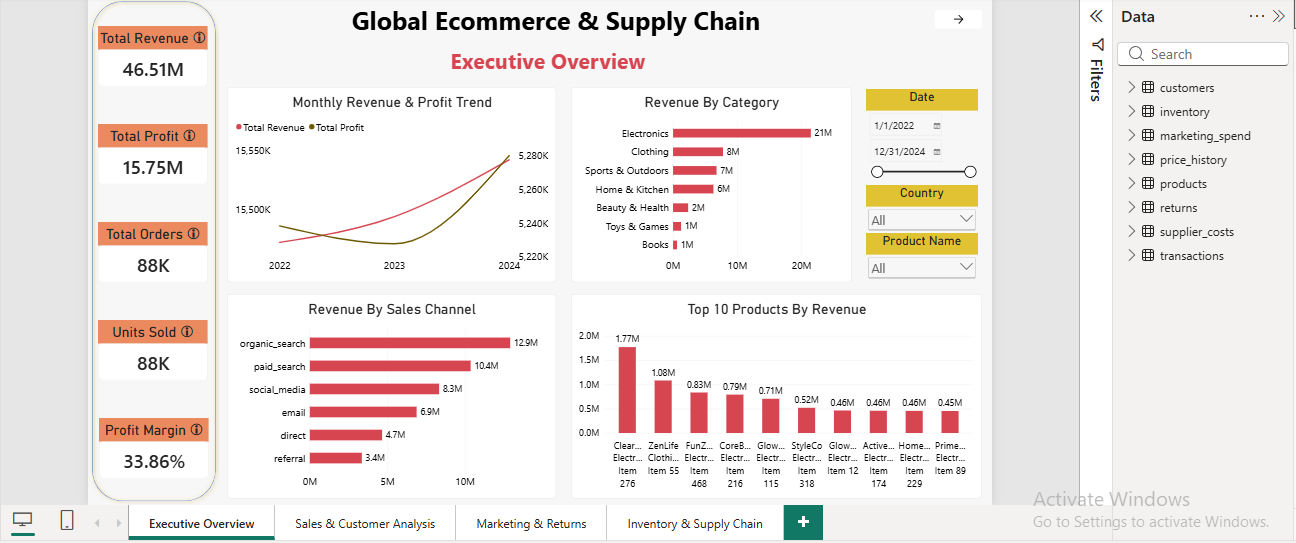

This screenshot's page, from the dashboard's own definition file:
{"tool":"powerbi","page":{"name":"Executive Overview","canvas":[1920,1080],"ordinal":0},"visuals":[{"type":"shape","box":[545.8,0,896.9,96.3],"z":0},{"type":"slicer","title":"Date","fields":{"Values":["transactions.date"]},"box":[1654.6,194.8,237.6,203.3],"z":0,"group":"g1"},{"type":"shape","box":[753.8,96.6,446.7,68.7],"z":1000},{"type":"slicer","title":"Country","fields":{"Values":["transactions.country"]},"box":[1654.6,398.1,237.6,104.9],"z":1000,"group":"g1"},{"type":"shape","box":[0,0,280.4,1080.9],"z":2000},{"type":"slicer","title":"Product Name","fields":{"Values":["products.name"]},"box":[1654.6,500.9,237.6,104.9],"z":2000,"group":"g1"},{"type":"cardVisual","title":"Total Revenue 🛈","fields":{"Data":["transactions.Total Revenue"]},"box":[21.4,62.1,233.3,128.4],"z":3000},{"type":"cardVisual","title":"Total Profit 🛈","fields":{"Data":["transactions.Total Profit"]},"box":[21.4,270.2,233.3,128.4],"z":4000},{"type":"cardVisual","title":"Total Orders 🛈","fields":{"Data":["transactions.Total Orders"]},"box":[21.4,478.4,233.3,128.4],"z":5000},{"type":"cardVisual","title":"Units Sold 🛈","fields":{"Data":["transactions.Total Orders"]},"box":[21.4,686.6,233.3,128.4],"z":6000},{"type":"cardVisual","title":"Profit Margin 🛈","fields":{"Data":["transactions.Profit Margin"]},"box":[23.5,894.7,233.3,128.4],"z":7000},{"type":"lineChart","title":"Monthly Revenue & Profit Trend","fields":{"Category":["transactions.date.Variation.Date Hierarchy.Year","transactions.date.Variation.Date Hierarchy.Month"],"Y":["transactions.Total Revenue"],"Y2":["transactions.Total Profit"]},"box":[295.4,190.5,699.9,415.3],"z":8000},{"type":"clusteredBarChart","title":"Revenue By Category","fields":{"Y":["transactions.Total Revenue"],"Category":["transactions.category"]},"box":[1027.4,190.5,597.2,415.3],"z":9000},{"type":"clusteredBarChart","title":"Revenue By Sales Channel","fields":{"Y":["transactions.Total Revenue"],"Category":["transactions.channel"]},"box":[295.4,631.4,699.9,434.5],"z":10000},{"type":"clusteredColumnChart","title":"Top 10 Products By Revenue","fields":{"Y":["transactions.Total Revenue"],"Category":["products.name"]},"box":[1027.4,631.4,873.3,434.5],"z":11000},{"type":"actionButton","box":[1800.1,27.8,100,40],"z":12000},{"type":"group","id":"g1","title":"Group 1","box":[1654.6,194.8,237.6,411],"z":13000}]}

Visuals, with their boxes on the page's 1920x1080 design canvas (x1, y1, x2, y2). These are canvas units, not pixel positions in the 1296x543 screenshot, which may show the page scaled, cropped or inside an application window:
shape: {"left": 546, "top": 0, "right": 1443, "bottom": 96}
"Date" slicer: {"left": 1655, "top": 195, "right": 1892, "bottom": 398}
shape: {"left": 754, "top": 97, "right": 1200, "bottom": 165}
"Country" slicer: {"left": 1655, "top": 398, "right": 1892, "bottom": 503}
shape: {"left": 0, "top": 0, "right": 280, "bottom": 1081}
"Product Name" slicer: {"left": 1655, "top": 501, "right": 1892, "bottom": 606}
"Total Revenue 🛈" cardVisual: {"left": 21, "top": 62, "right": 255, "bottom": 190}
"Total Profit 🛈" cardVisual: {"left": 21, "top": 270, "right": 255, "bottom": 399}
"Total Orders 🛈" cardVisual: {"left": 21, "top": 478, "right": 255, "bottom": 607}
"Units Sold 🛈" cardVisual: {"left": 21, "top": 687, "right": 255, "bottom": 815}
"Profit Margin 🛈" cardVisual: {"left": 24, "top": 895, "right": 257, "bottom": 1023}
"Monthly Revenue & Profit Trend" lineChart: {"left": 295, "top": 190, "right": 995, "bottom": 606}
"Revenue By Category" clusteredBarChart: {"left": 1027, "top": 190, "right": 1625, "bottom": 606}
"Revenue By Sales Channel" clusteredBarChart: {"left": 295, "top": 631, "right": 995, "bottom": 1066}
"Top 10 Products By Revenue" clusteredColumnChart: {"left": 1027, "top": 631, "right": 1901, "bottom": 1066}
actionButton: {"left": 1800, "top": 28, "right": 1900, "bottom": 68}
"Group 1" group: {"left": 1655, "top": 195, "right": 1892, "bottom": 606}
